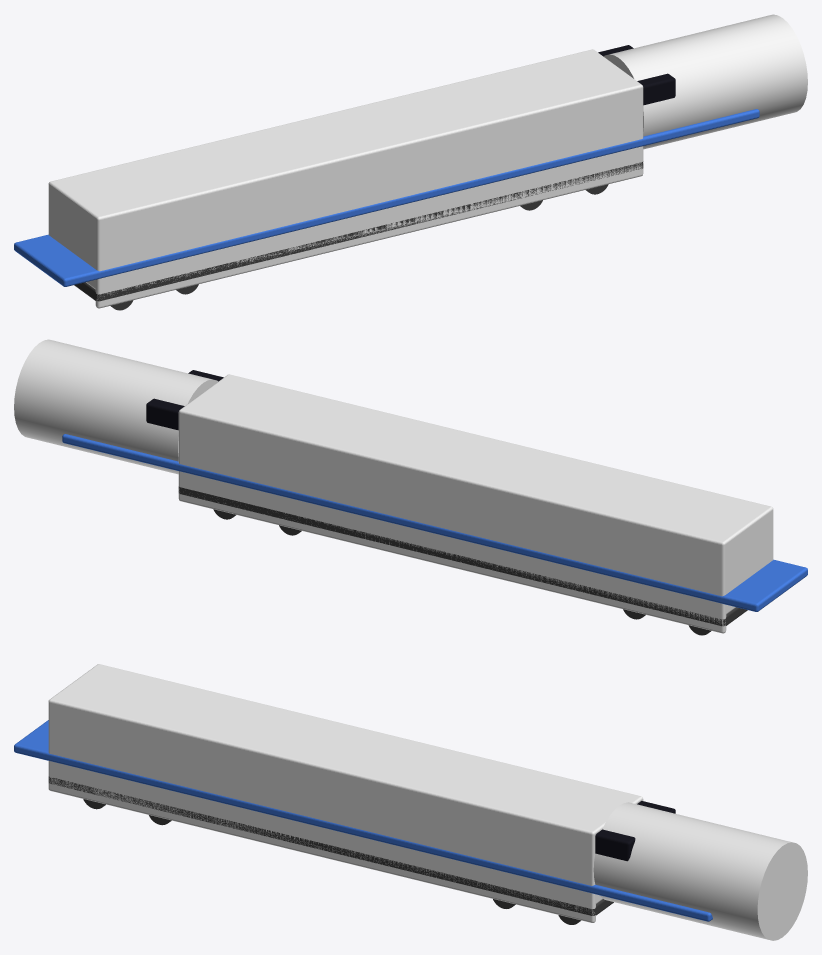
The model's file is Bullet Train.fbx.
The picture shows the model from 3 angles, top to bottom: view 1: azimuth 30°, elevation 25°; view 2: azimuth 150°, elevation 25°; view 3: azimuth 330°, elevation 25°; orthographic projection.
Parts seen in each view (by area): view 1: Aero_Body, Aero_Nose, Skirt_R, Aero_Stripe, Chassis, Cockpit_Glass; view 2: Aero_Body, Aero_Nose, Skirt_L, Aero_Stripe, Chassis, Cockpit_Glass; view 3: Aero_Body, Aero_Nose, Skirt_R, Aero_Stripe, Chassis, Cockpit_Glass.
Part boxes in pixels (<box>): Aero_Body: <box>48,49,643,289</box>; Aero_Nose: <box>603,14,807,149</box>; Skirt_R: <box>95,157,643,308</box>; Aero_Stripe: <box>14,109,759,286</box>; Chassis: <box>74,161,643,301</box>; Cockpit_Glass: <box>598,45,675,105</box>; Aero_Body: <box>178,374,773,614</box>; Aero_Nose: <box>14,339,218,474</box>; Skirt_L: <box>178,481,726,633</box>; Aero_Stripe: <box>62,434,807,611</box>; Chassis: <box>178,486,747,626</box>; Cockpit_Glass: <box>146,370,223,430</box>; Aero_Body: <box>48,664,643,904</box>; Aero_Nose: <box>593,802,807,940</box>; Skirt_R: <box>48,771,595,922</box>; Aero_Stripe: <box>14,720,712,921</box>; Chassis: <box>48,776,613,915</box>; Cockpit_Glass: <box>595,801,675,861</box>.
Bounding box in the file's own units: 2725 × 410 × 325.
